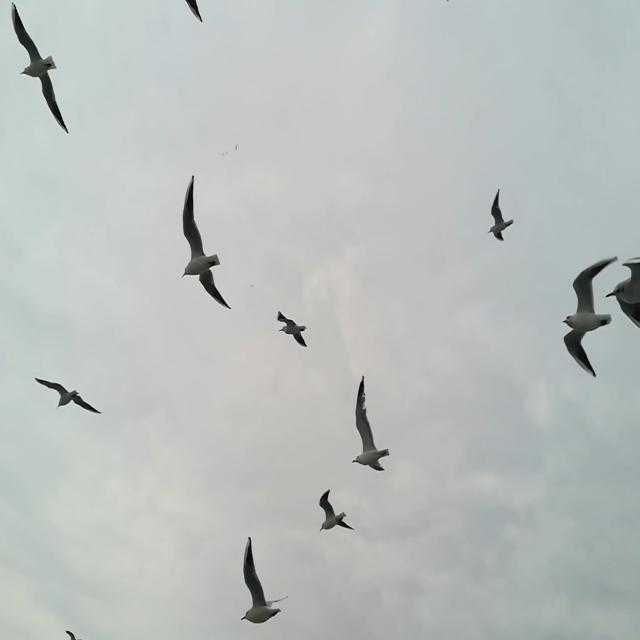bird: (11, 1, 70, 136), (561, 256, 618, 380), (181, 175, 231, 311), (241, 535, 291, 625), (352, 377, 390, 472), (34, 377, 102, 417), (605, 255, 640, 332), (318, 487, 356, 532), (487, 188, 515, 243), (277, 310, 308, 348), (185, 0, 204, 24), (65, 630, 84, 640), (221, 149, 229, 157), (234, 142, 239, 153), (249, 284, 254, 289)
